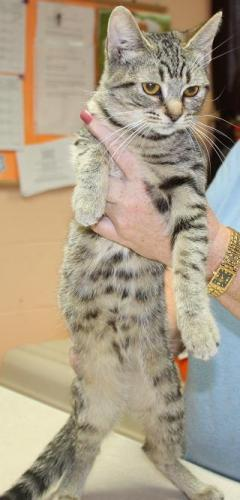bengal: (95, 2, 229, 150)
